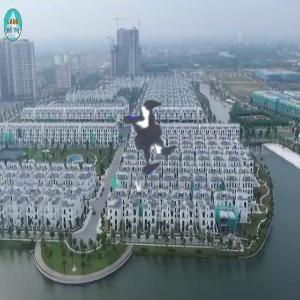drone: (76, 65, 221, 210)
